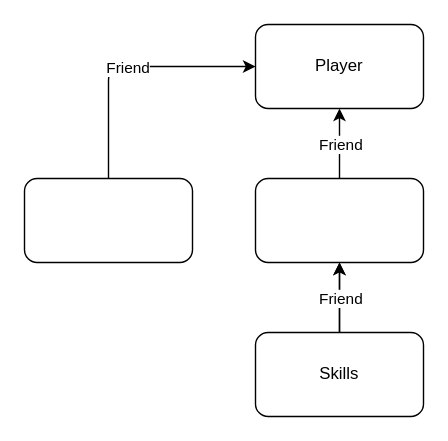
This 448x441 diagram has some shape labels left out. Each missing label, with the centre of its shape:
Characters: point (339, 219)
Inventory: point (107, 219)
